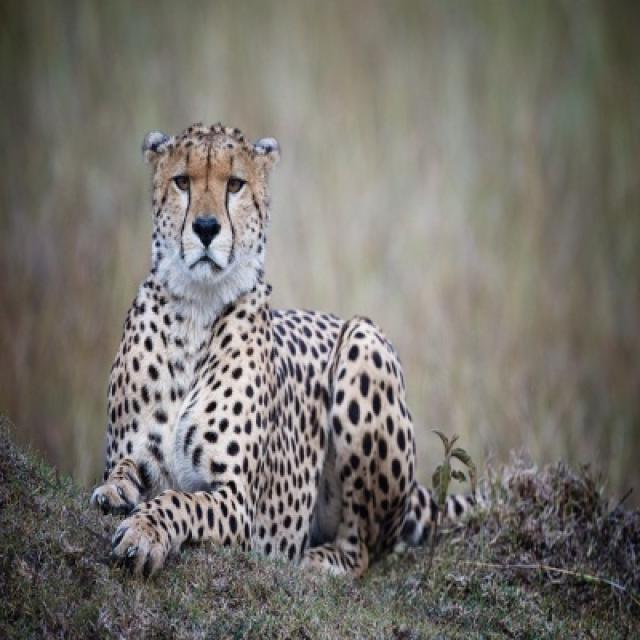Cheetah: (91, 125, 432, 582)
